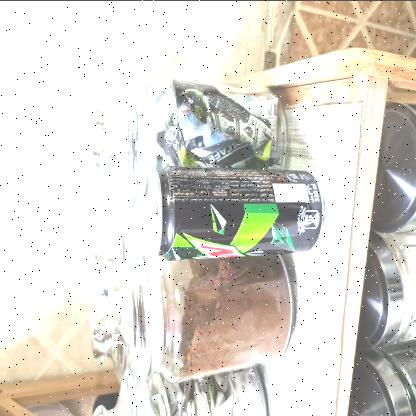Can: (145, 163, 325, 265)
